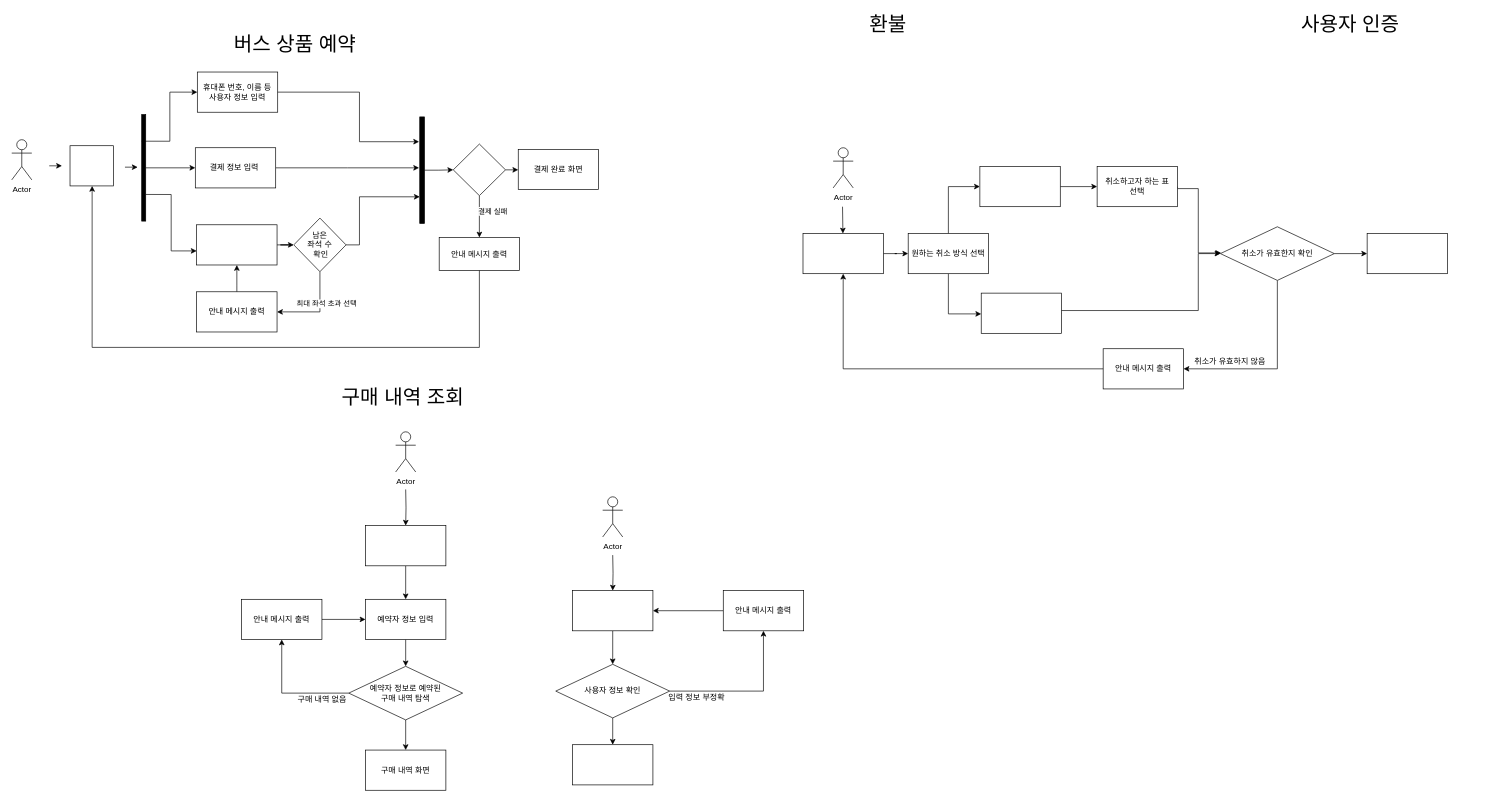
Some shapes in this 1496 by 802 pixel diagram are drawn without their labels. The shapes that lost their labels are listed below. From the top down, each one's centre as x and y in pixels, then its label:
the point at 91,165: 정보 입력
the point at 479,169: 결제 성공 여부 확인
the point at 1019,186: 일부 취소 선택
the point at 236,244: 원하는 상품과 좌석 수 선택
the point at 842,253: 원하는 구매 내역의 취소 선택
the point at 1407,253: 취소 결과 화면
the point at 1021,312: 전체 취소 선택
the point at 405,545: 구매 내역 조회 선택
the point at 612,610: 사용자 인증 정보 입력
the point at 612,764: 구매 내역 접근 승인
